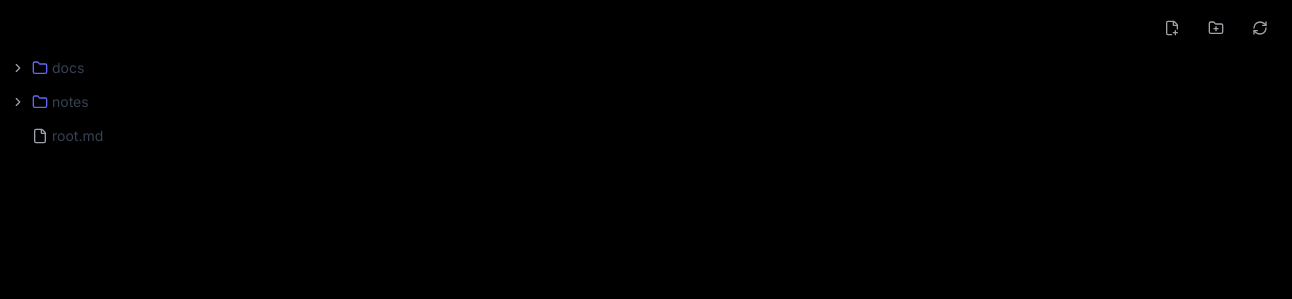
Test: FileTree › context menu › shows folder-specific menu items on folder right-click
Right-click the text "docs" at (46, 68), box [8, 58, 84, 78]
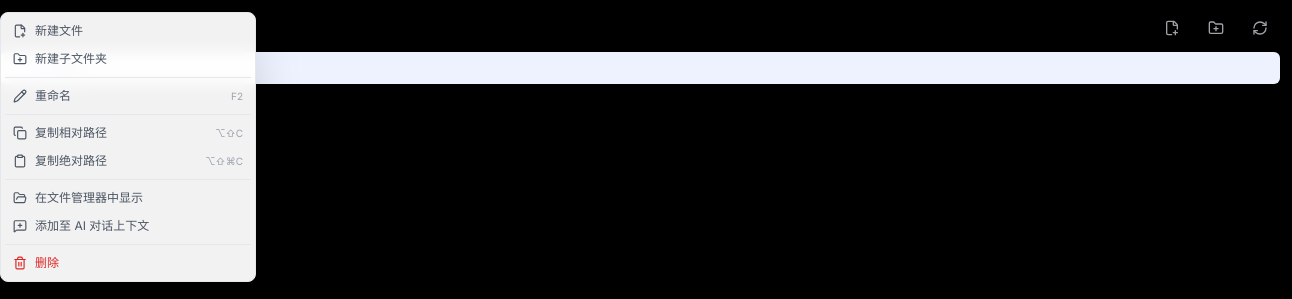
expect the menu named "文件树操作菜单" is shown: met, box [0, 12, 256, 282]
